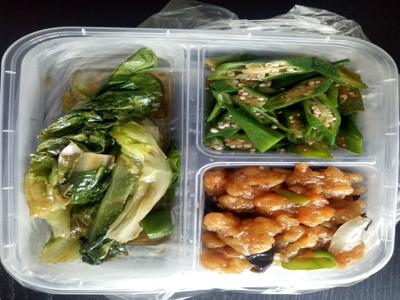gbr: (201, 163, 376, 278)
ymc: (25, 53, 181, 273)
